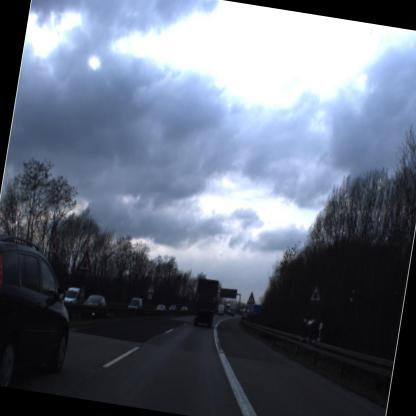danger: (306, 280, 326, 309), (241, 287, 259, 311), (145, 282, 155, 296)
